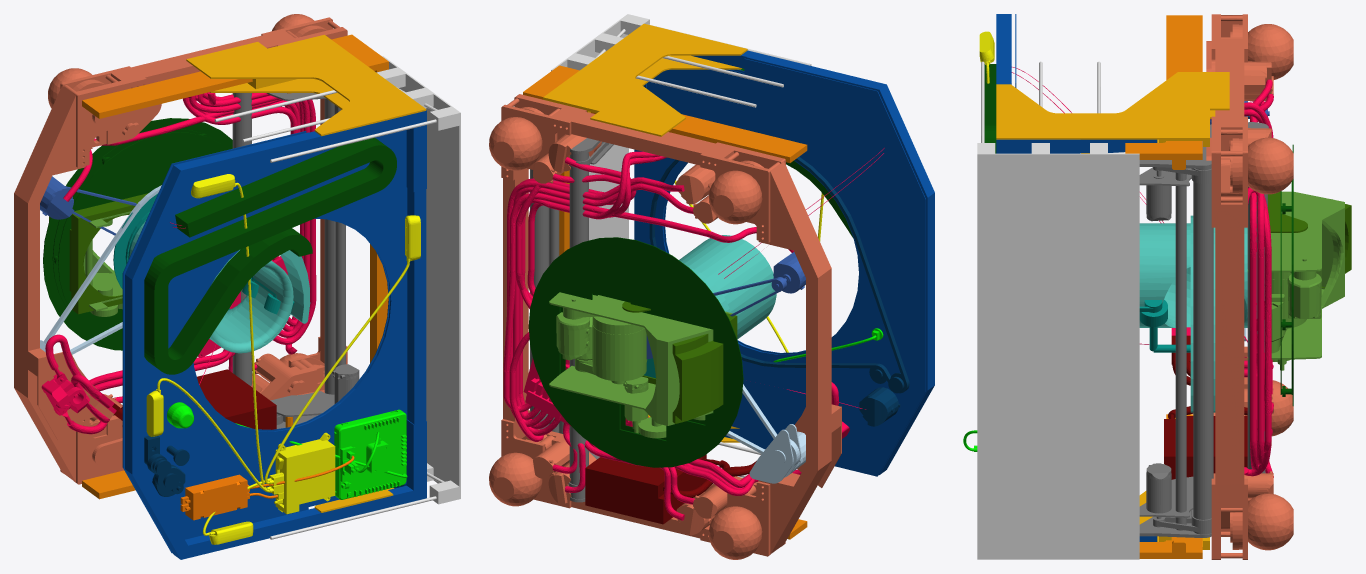
The picture shows the model from 3 angles, left to right: view 1: azimuth 30°, elevation 25°; view 2: azimuth 150°, elevation 25°; view 3: azimuth 270°, elevation 25°; orthographic projection. The views are drawn at different scales.
Parts seen in each view (by area): view 1: main_mesh, c0_mesh, c2_mesh, c1_mesh, c3_mesh; view 2: main_mesh, c2_mesh, c0_mesh, c1_mesh, c3_mesh; view 3: c0_mesh, main_mesh, c2_mesh, c1_mesh, c3_mesh.
Boxes of the visible parts, left/top/right/bottom form: main_mesh: left=14, top=14, right=426, bottom=559; c0_mesh: left=82, top=34, right=460, bottom=539; c2_mesh: left=43, top=118, right=232, bottom=350; c1_mesh: left=113, top=193, right=310, bottom=353; c3_mesh: left=49, top=193, right=148, bottom=314; main_mesh: left=489, top=23, right=934, bottom=559; c2_mesh: left=528, top=237, right=743, bottom=467; c0_mesh: left=523, top=14, right=811, bottom=539; c1_mesh: left=644, top=235, right=776, bottom=378; c3_mesh: left=622, top=301, right=737, bottom=423; c0_mesh: left=977, top=15, right=1268, bottom=559; main_mesh: left=963, top=14, right=1293, bottom=559; c2_mesh: left=1247, top=144, right=1344, bottom=406; c1_mesh: left=1139, top=215, right=1247, bottom=412; c3_mesh: left=1268, top=191, right=1351, bottom=288.
Bounding box in the file's own units: 0.6761 × 0.7937 × 0.6782.
